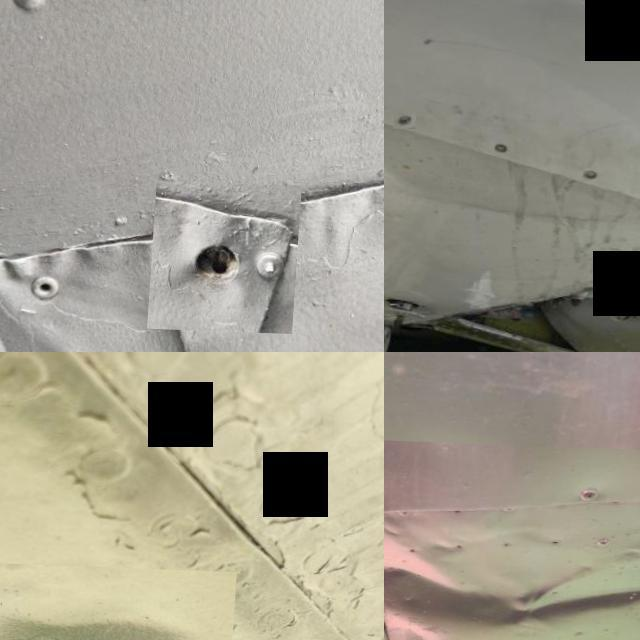Dent: (384, 438, 640, 640), (0, 559, 241, 640)
Missing_Fastener: (153, 179, 306, 331), (396, 111, 419, 128), (491, 139, 516, 154), (584, 168, 606, 180)
